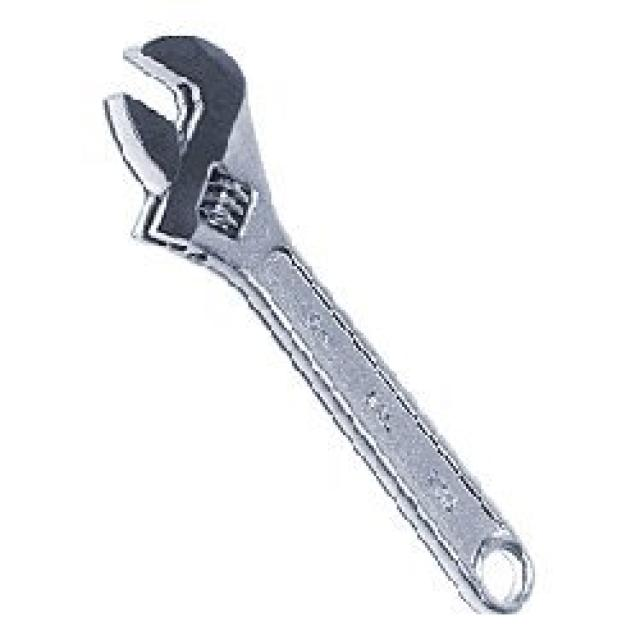wrench: (81, 24, 594, 628)
